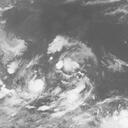cyclone: (47, 35, 94, 79)
